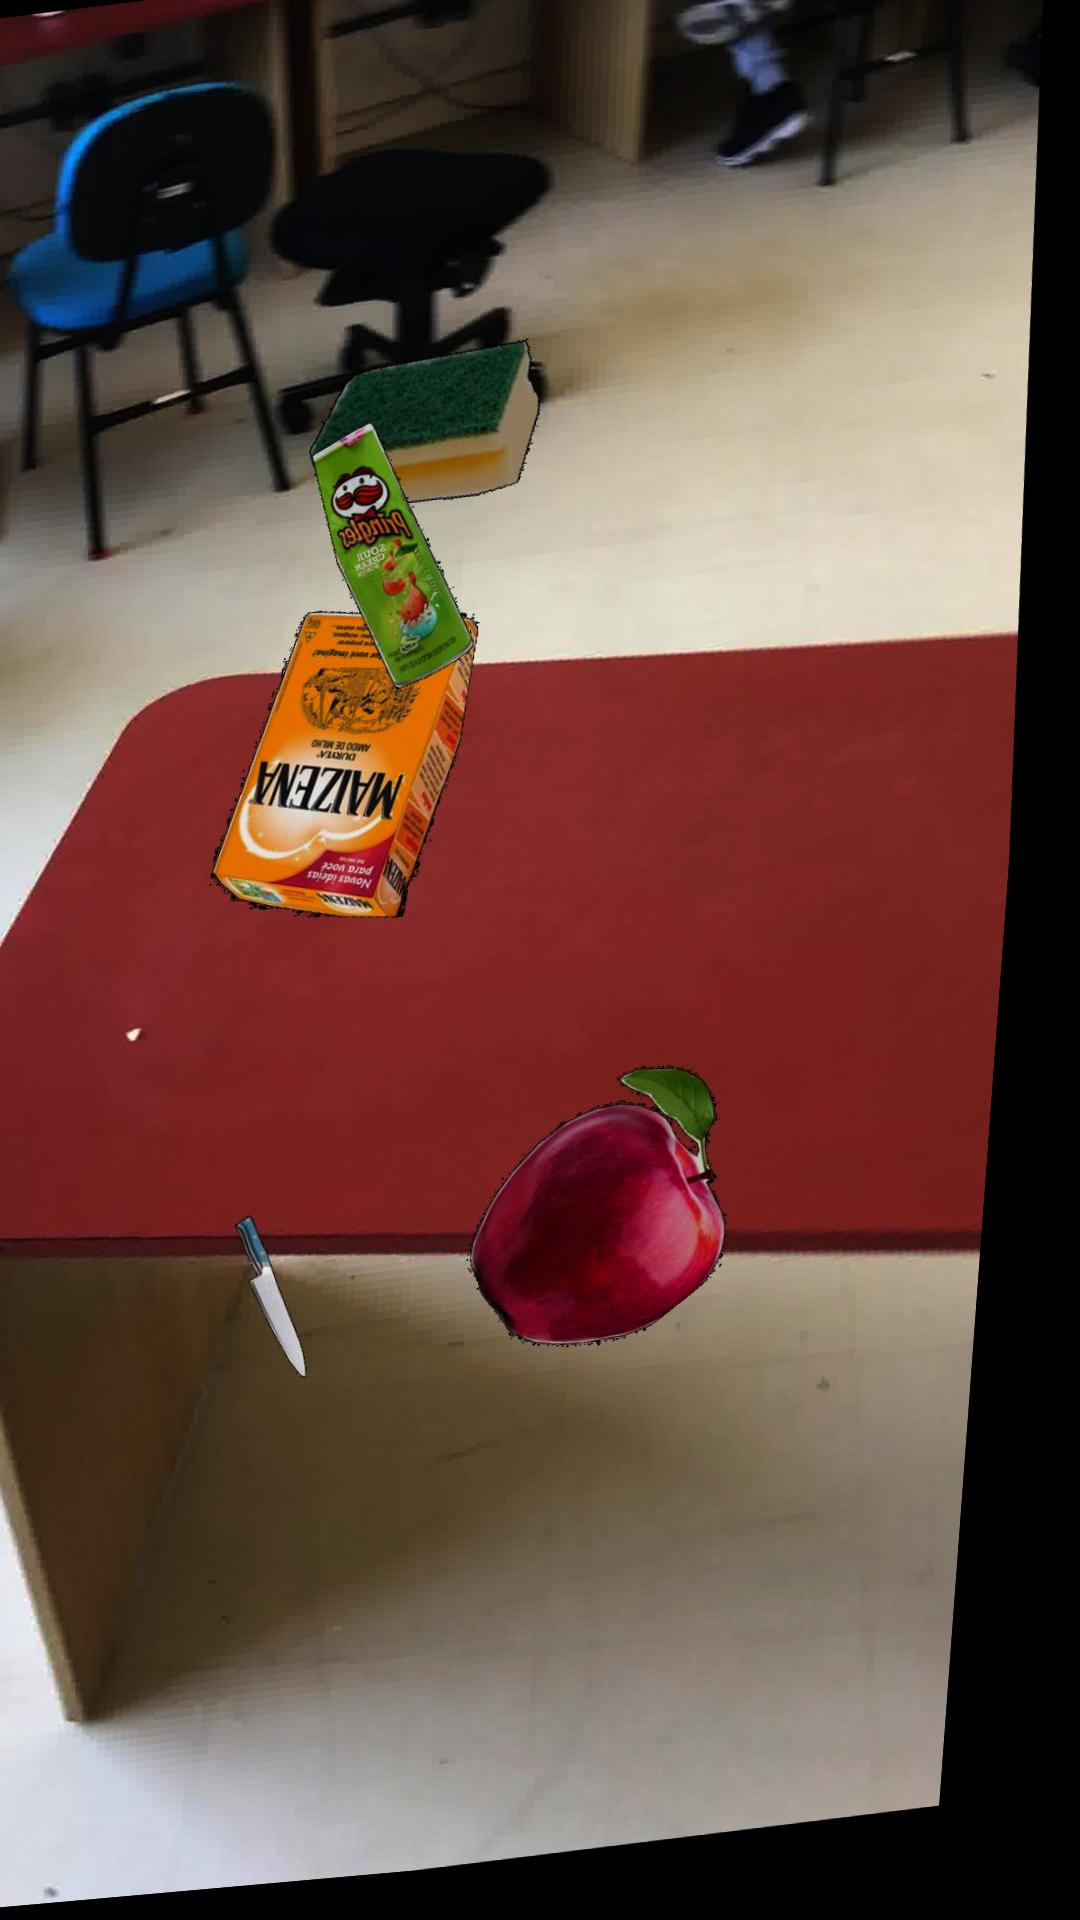apple: (492, 1078, 748, 1357)
knife: (257, 1221, 330, 1384)
pringles: (321, 428, 486, 696)
sponge: (319, 349, 549, 509)
